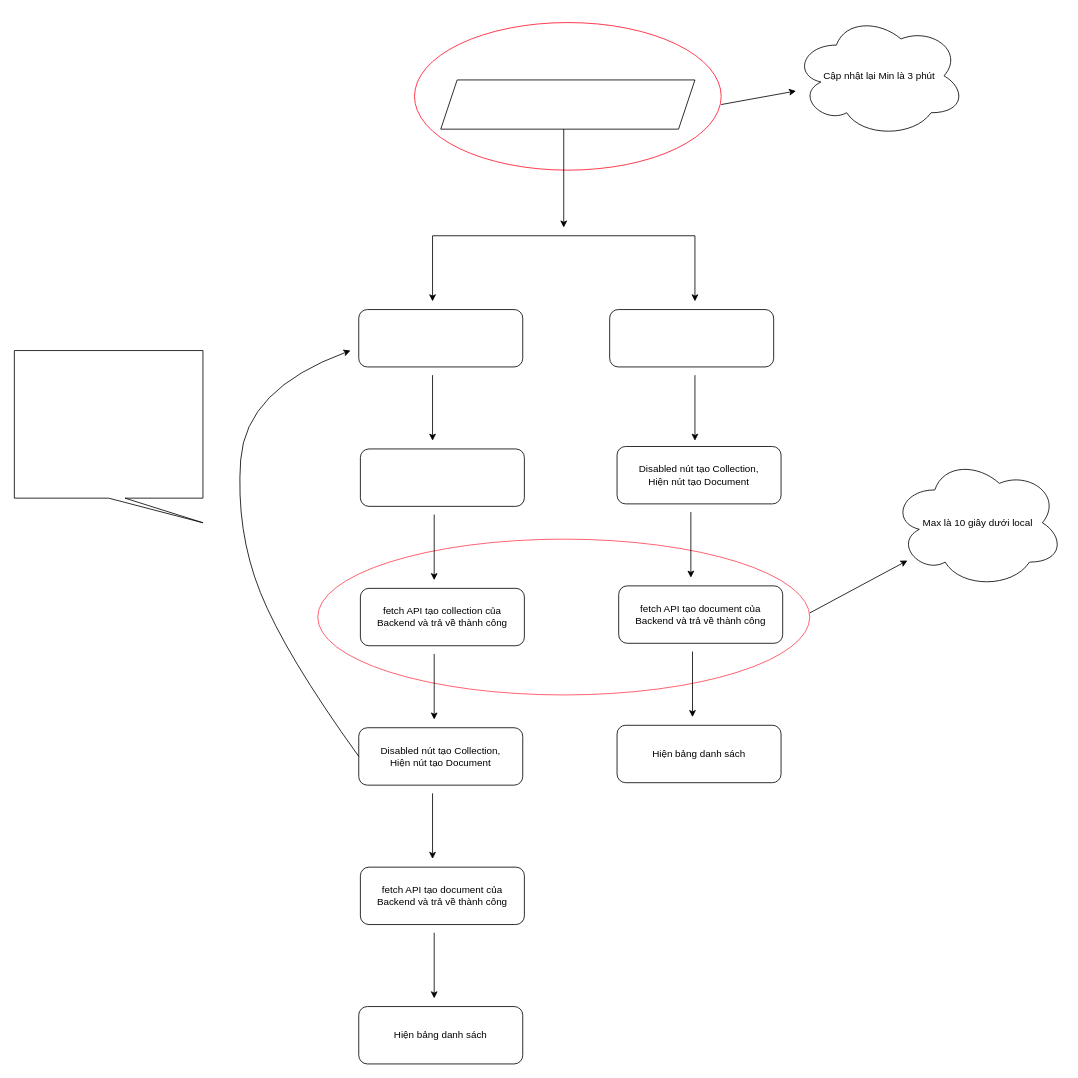
This 1078x1078 diagram has some shape labels left out. The centre of each missing label's shape, as x and y in pixels:
fetch API của SPO: the point at 567,104
haveCollection = false: the point at 440,338
haveCollection = true: the point at 691,338
Hiện nút tạo collection: the point at 442,477
Khi người dùng bấm F5 để tải trang lại hoặc thoát trang rồi quay lại: the point at 108,436
